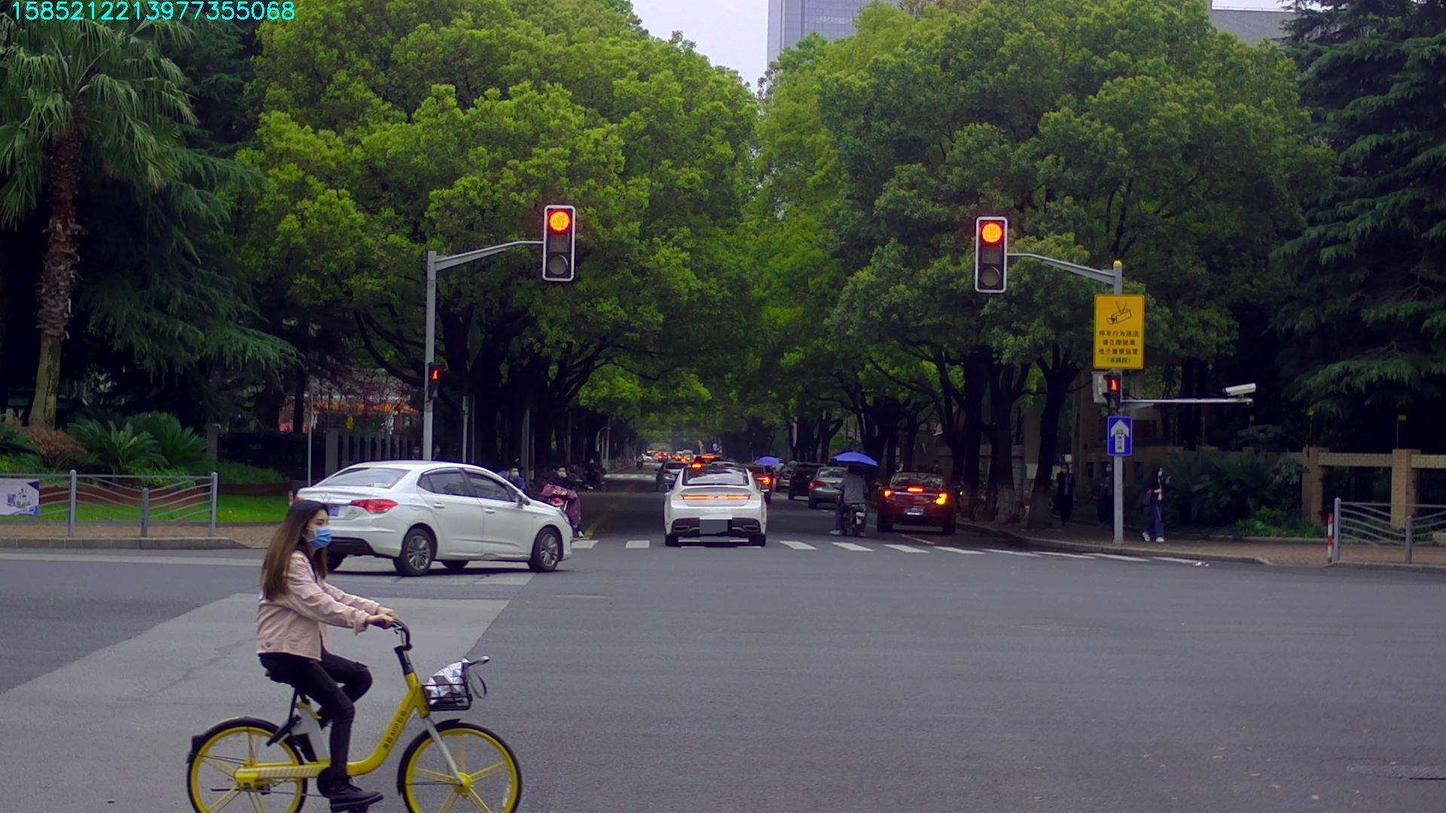red: (545, 207, 572, 279), (978, 220, 1004, 292)
